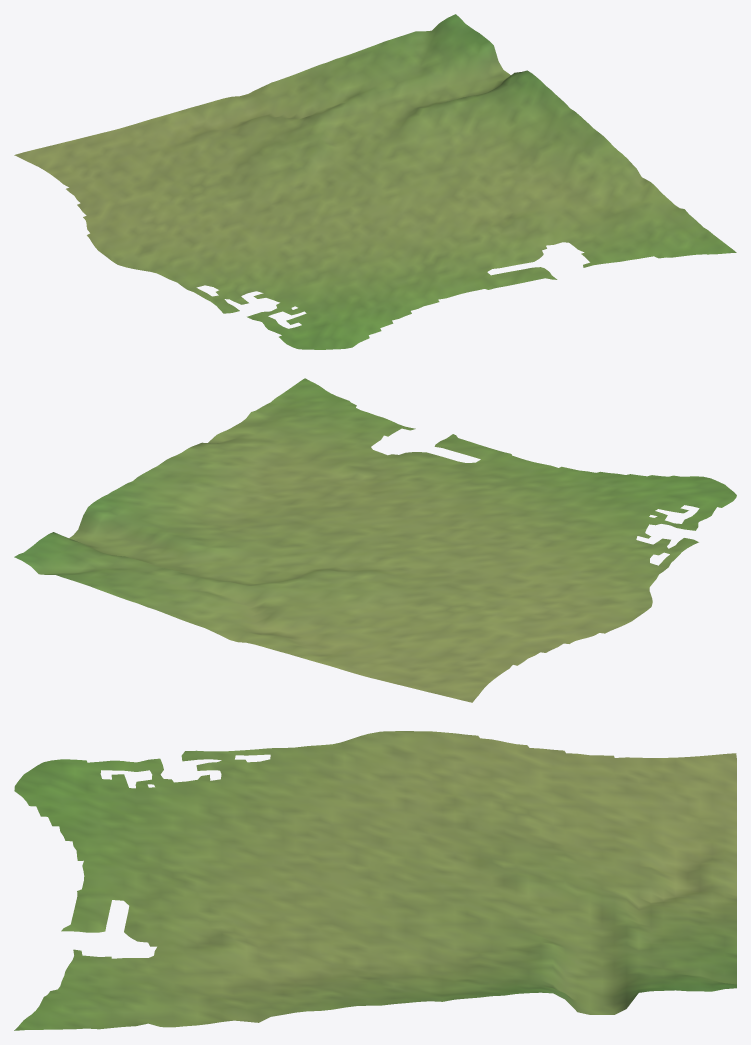
Rendered from lareunion-terrain-12.glb.
The picture shows the model from 3 angles, top to bottom: view 1: azimuth 30°, elevation 25°; view 2: azimuth 150°, elevation 25°; view 3: azimuth 270°, elevation 25°; orthographic projection. The views are drawn at different scales.
Visible parts, largest first — view 1: LaReunionRgeAltiTerrain_12; view 2: LaReunionRgeAltiTerrain_12; view 3: LaReunionRgeAltiTerrain_12.
Boxes of the visible parts, x1,y1,x2,y2 form: LaReunionRgeAltiTerrain_12: (14,14,736,349); LaReunionRgeAltiTerrain_12: (14,378,736,702); LaReunionRgeAltiTerrain_12: (14,731,736,1030).
Bounding box in the file's own units: 20.55 × 1.43 × 20.95.
